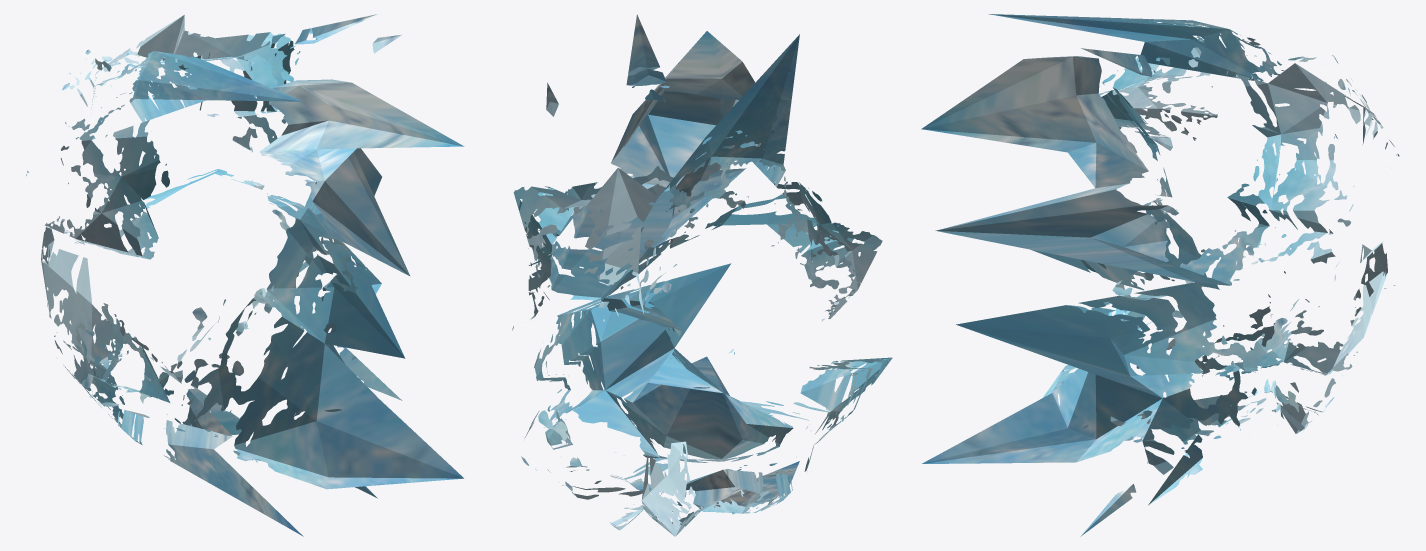
File: wolverine_head_ice.glb
The picture shows the model from 3 angles, left to right: view 1: azimuth 30°, elevation 25°; view 2: azimuth 150°, elevation 25°; view 3: azimuth 270°, elevation 25°; orthographic projection. The views are drawn at different scales.
Visible parts, largest first — view 1: wolverine_head_ice_0; view 2: wolverine_head_ice_0; view 3: wolverine_head_ice_0.
Boxes of the visible parts, left/top/right/bottom form: wolverine_head_ice_0: left=26, top=14, right=464, bottom=536; wolverine_head_ice_0: left=512, top=14, right=892, bottom=536; wolverine_head_ice_0: left=921, top=14, right=1399, bottom=536.
Bounding box in the file's own units: 9.63 × 13.79 × 12.55.
1 material, 1 textured.
